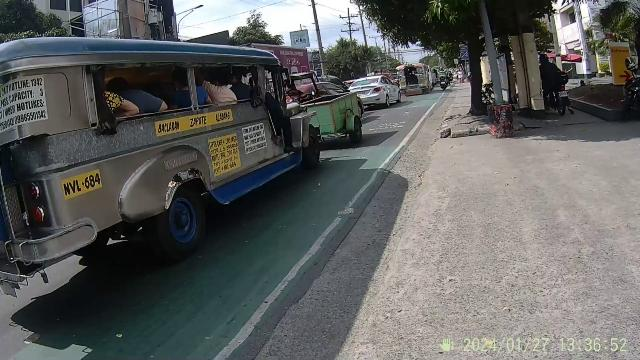lamp_post: (173, 4, 205, 40)
utility_post: (478, 6, 518, 142)
